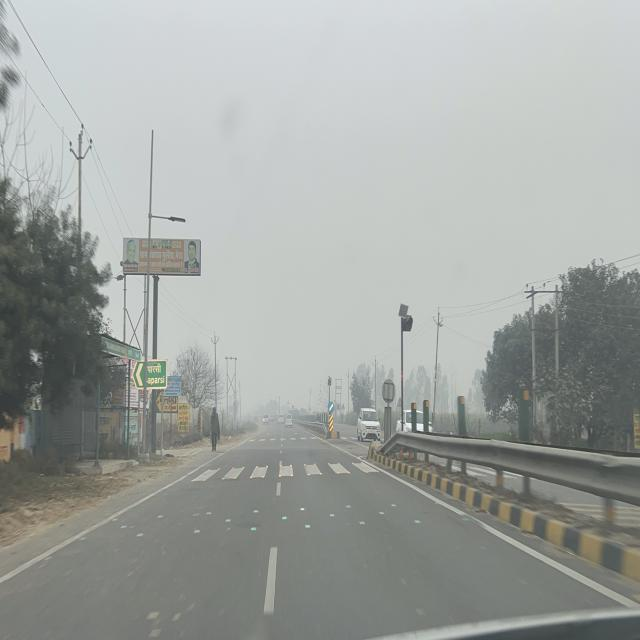GENERAL: (132, 359, 168, 390)
KEEP_LEFT: (328, 401, 334, 413)
